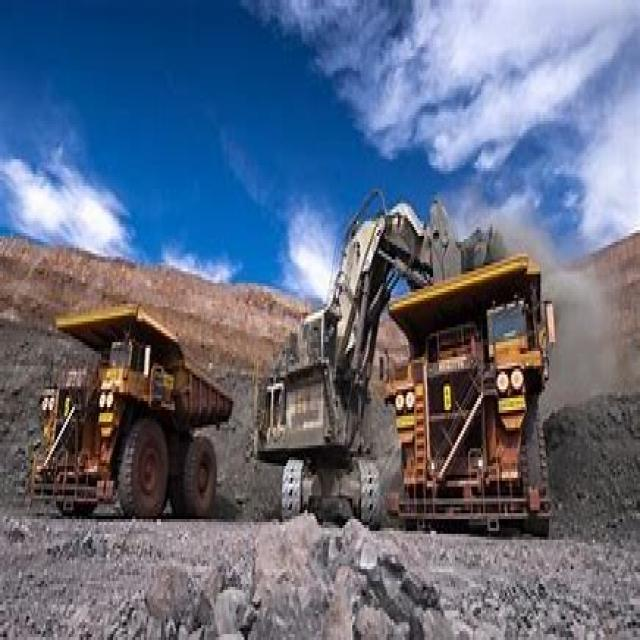dump_truck: (385, 253, 556, 540), (25, 298, 233, 528)
